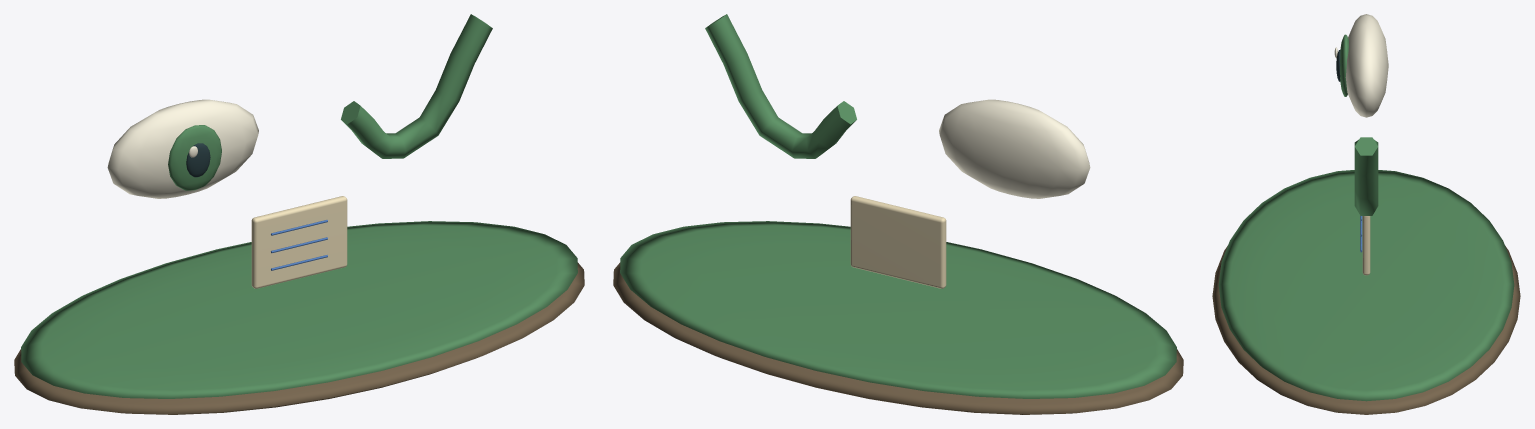
File: complete-first-careful-verification.glb
3 renders of one model, left to right at view 1: azimuth 30°, elevation 25°; view 2: azimuth 150°, elevation 25°; view 3: azimuth 270°, elevation 25°, orthographic. The views are drawn at different scales.
Visible parts, largest first — view 1: complete-first-careful-verification_surface_01, complete-first-careful-verification_surface_00, complete-first-careful-verification_surface_02, complete-first-careful-verification_surface_04, complete-first-careful-verification_surface_03, complete-first-careful-verification_surface_05; view 2: complete-first-careful-verification_surface_01, complete-first-careful-verification_surface_02, complete-first-careful-verification_surface_00, complete-first-careful-verification_surface_04; view 3: complete-first-careful-verification_surface_01, complete-first-careful-verification_surface_00, complete-first-careful-verification_surface_02, complete-first-careful-verification_surface_04.
Boxes of the visible parts, <box> form: complete-first-careful-verification_surface_01: <box>21,14,577,398</box>; complete-first-careful-verification_surface_00: <box>14,262,584,414</box>; complete-first-careful-verification_surface_02: <box>107,99,258,198</box>; complete-first-careful-verification_surface_04: <box>251,196,347,288</box>; complete-first-careful-verification_surface_03: <box>186,143,210,177</box>; complete-first-careful-verification_surface_05: <box>271,220,327,270</box>; complete-first-careful-verification_surface_01: <box>620,14,1176,398</box>; complete-first-careful-verification_surface_02: <box>939,99,1090,198</box>; complete-first-careful-verification_surface_00: <box>613,262,1183,414</box>; complete-first-careful-verification_surface_04: <box>850,196,946,288</box>; complete-first-careful-verification_surface_01: <box>1218,34,1514,401</box>; complete-first-careful-verification_surface_00: <box>1212,245,1520,414</box>; complete-first-careful-verification_surface_02: <box>1334,14,1388,117</box>; complete-first-careful-verification_surface_04: <box>1362,216,1370,275</box>.
Size of the model in its own units: 4.56 by 2.23 by 2.5.
